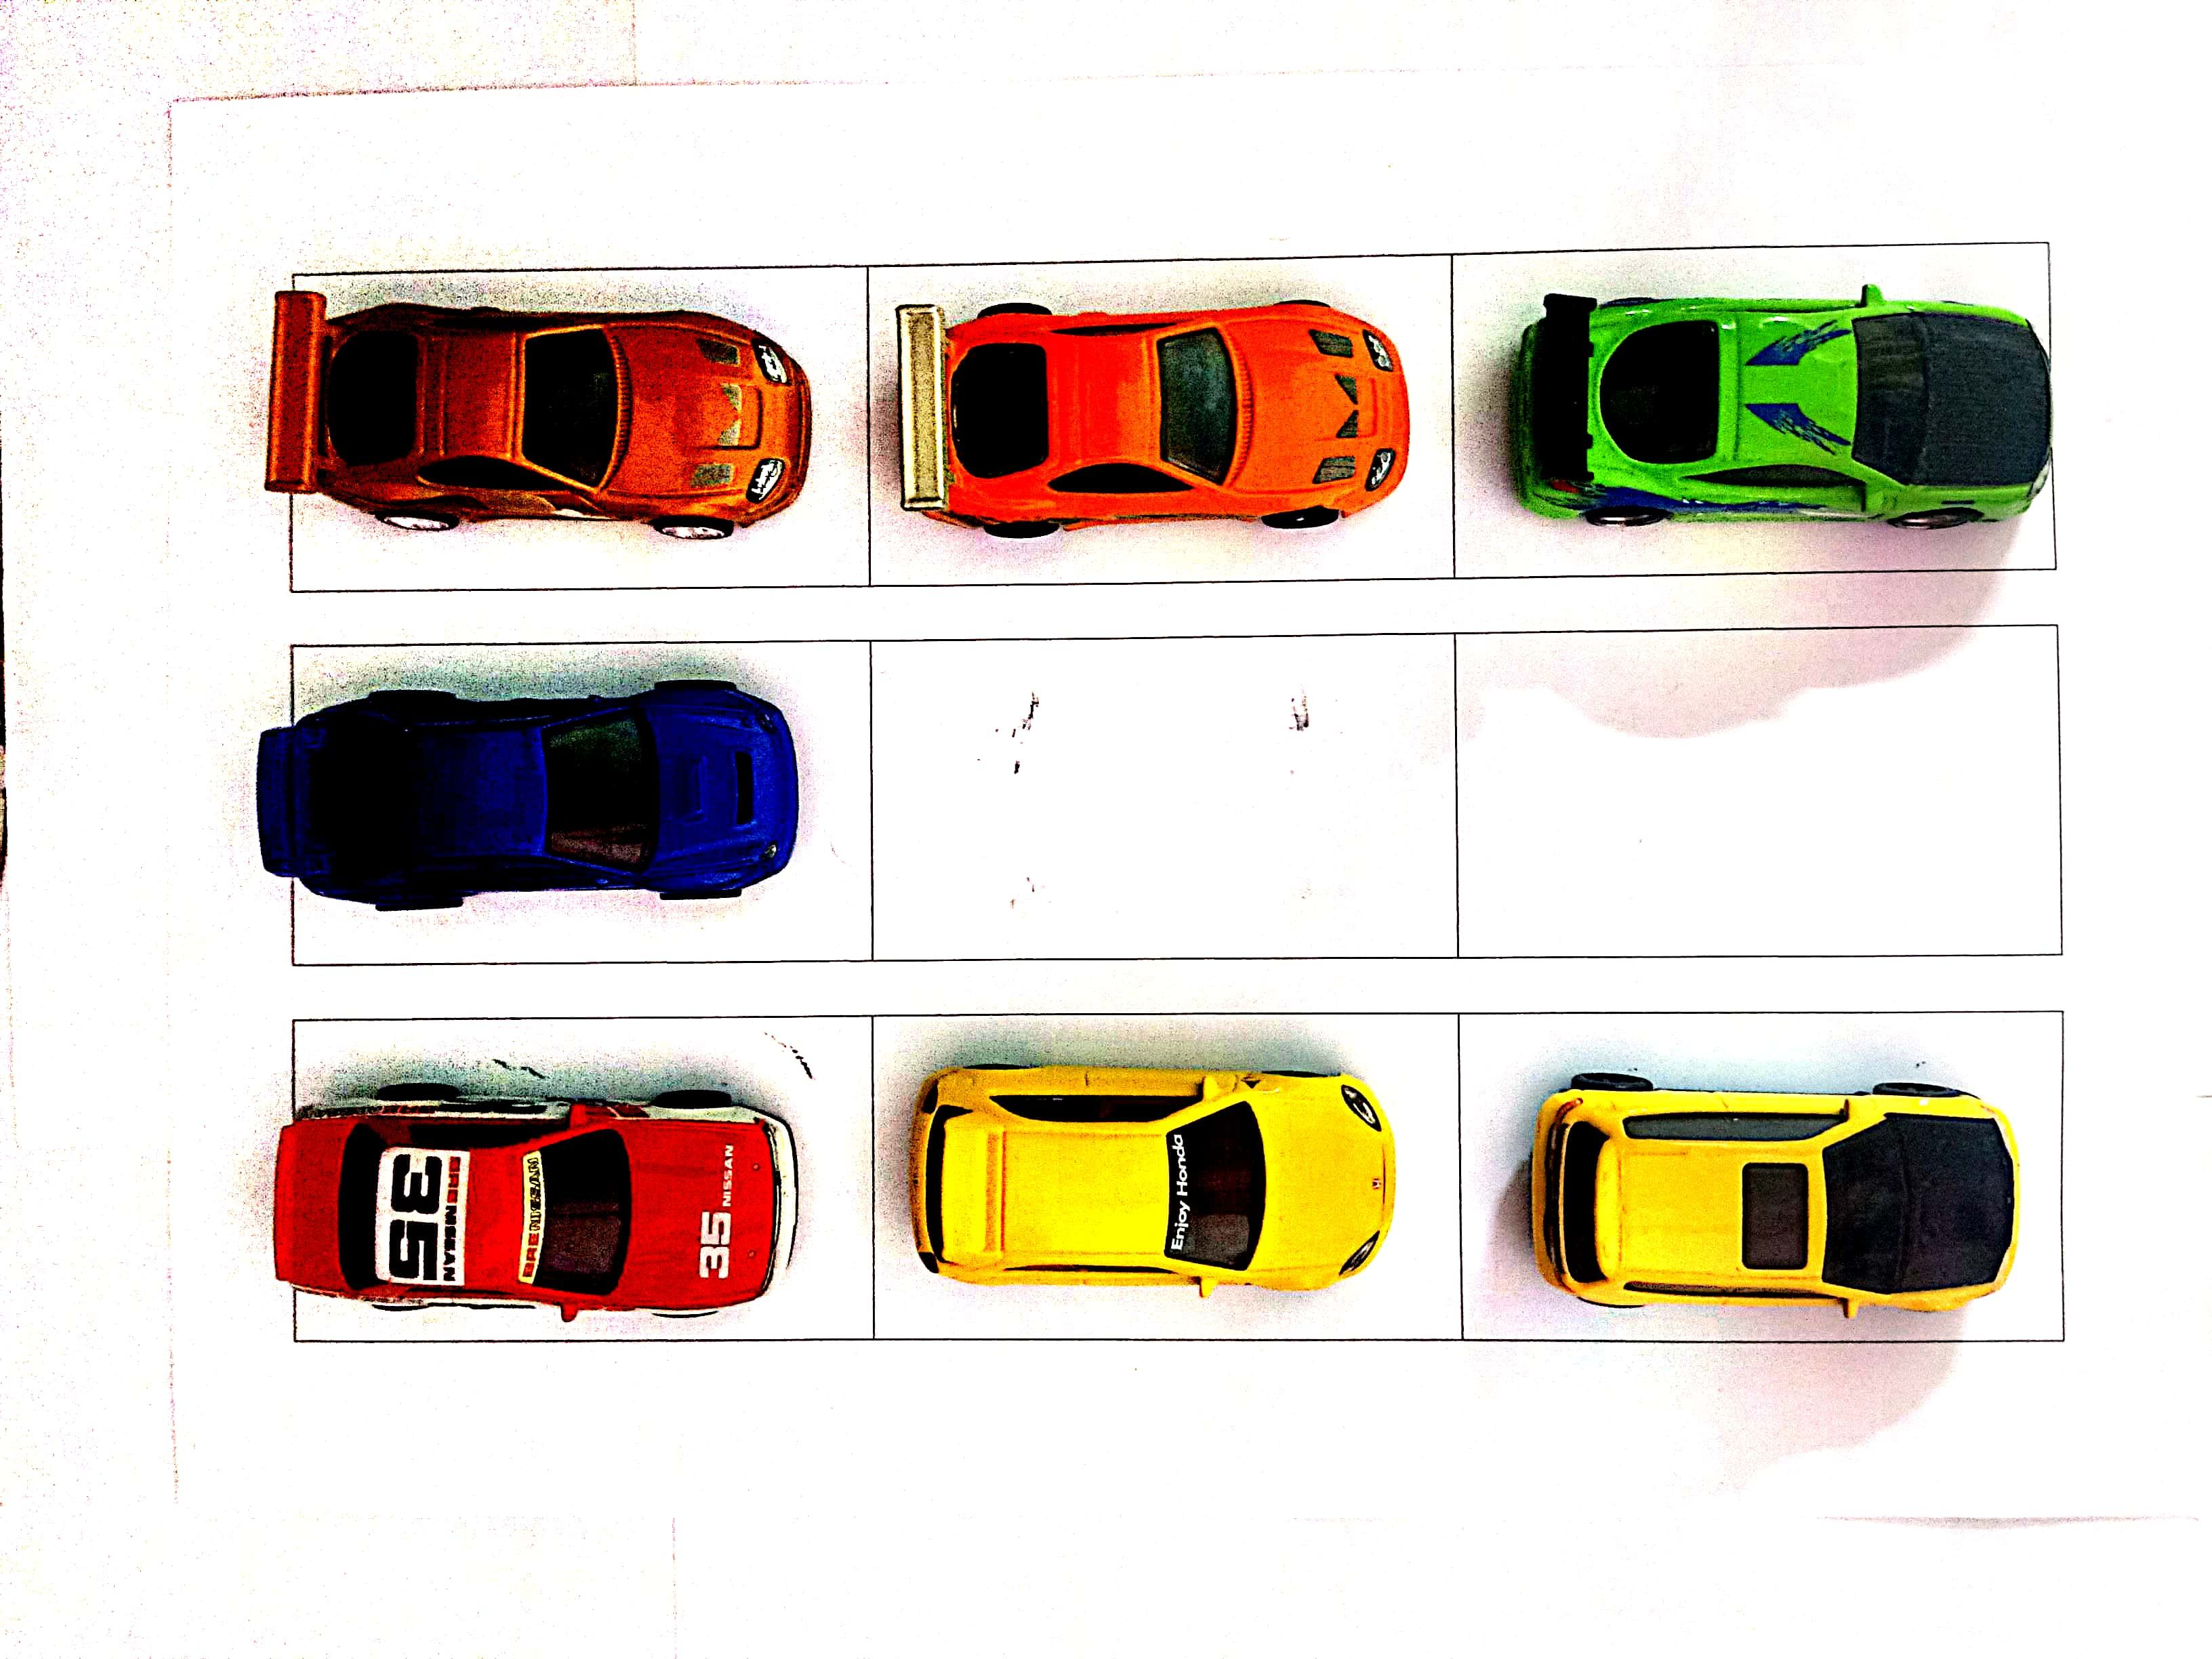Busy: (1460, 1011, 2059, 1340), (1458, 240, 2055, 568), (880, 1006, 1454, 1342), (296, 640, 866, 971), (286, 270, 866, 593), (874, 263, 1451, 586), (294, 1019, 871, 1340)
Free: (1454, 622, 2055, 950), (871, 640, 1446, 955)
